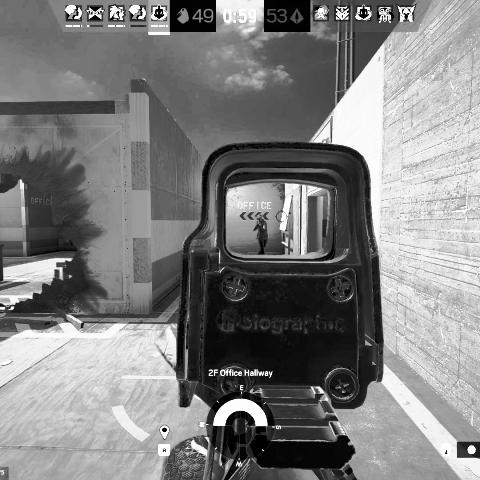Character: (253, 215, 270, 254)
Head: (257, 216, 263, 222)
